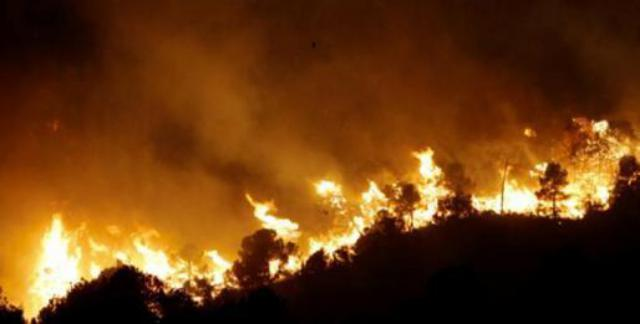fire: (36, 215, 82, 294), (136, 225, 188, 282), (566, 153, 604, 213), (413, 144, 442, 222), (250, 193, 298, 236), (469, 183, 538, 212), (581, 120, 637, 154), (193, 247, 227, 283), (359, 172, 383, 223), (109, 226, 137, 265), (333, 208, 359, 247), (310, 173, 340, 205), (304, 233, 336, 256), (90, 237, 104, 276)
